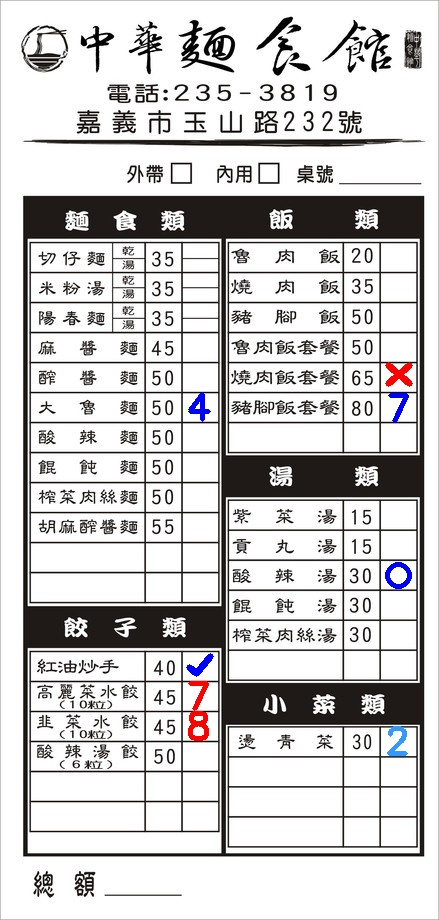marked_hollow: (380, 561, 416, 590)
marked_number_2: (380, 726, 416, 755)
marked_number_4: (181, 392, 217, 421)
marked_number_7: (381, 393, 417, 422), (181, 681, 217, 710)
marked_number_8: (181, 711, 217, 740)
marked_tick: (182, 651, 218, 680)
marked_x: (381, 360, 417, 389)
